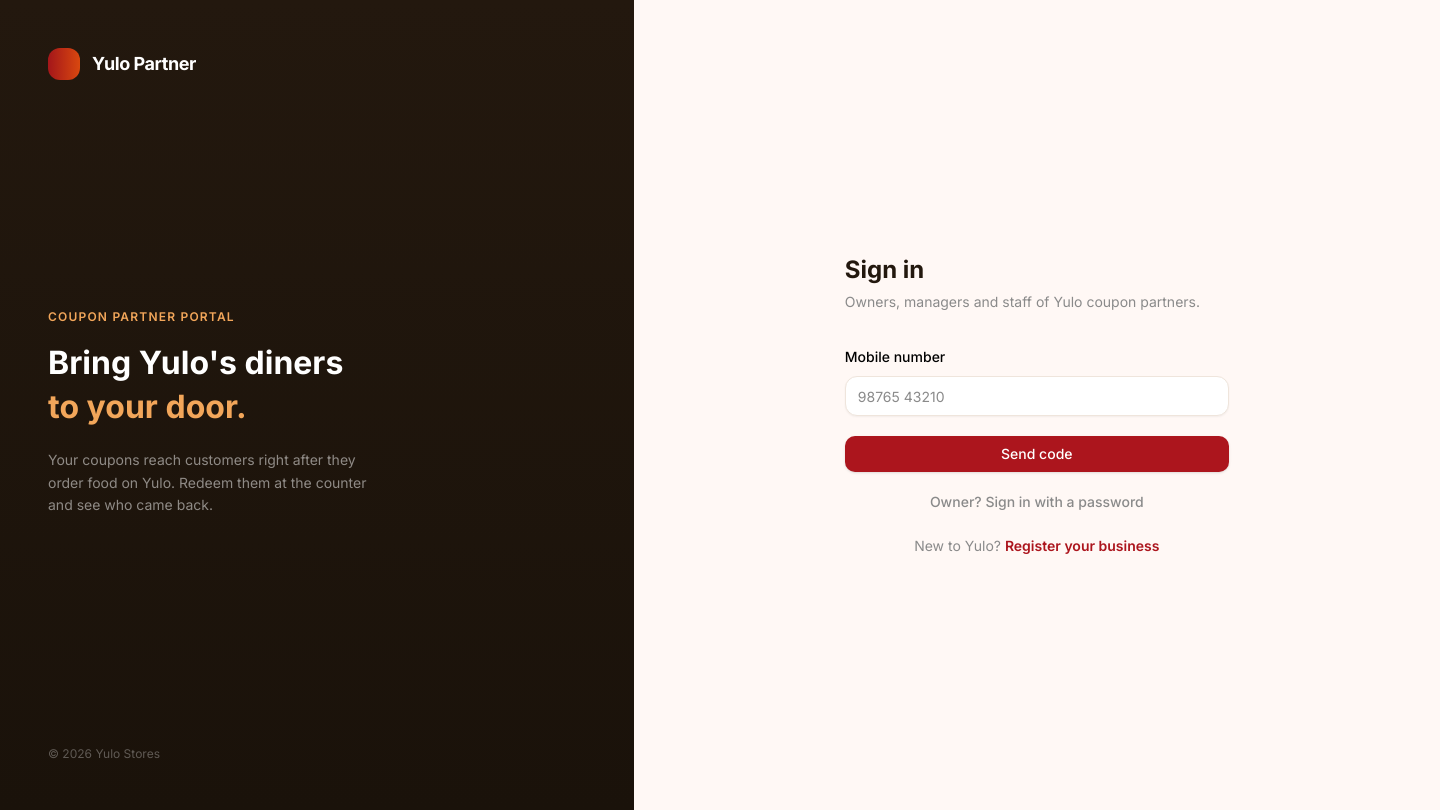
Test: Login — phone → OTP › the code screen shows where the code went, the development code, and a resend countdown
Type "9822222221" into the field labelled "Mobile number" at coordinates (1037, 396), box [845,376,1229,416]
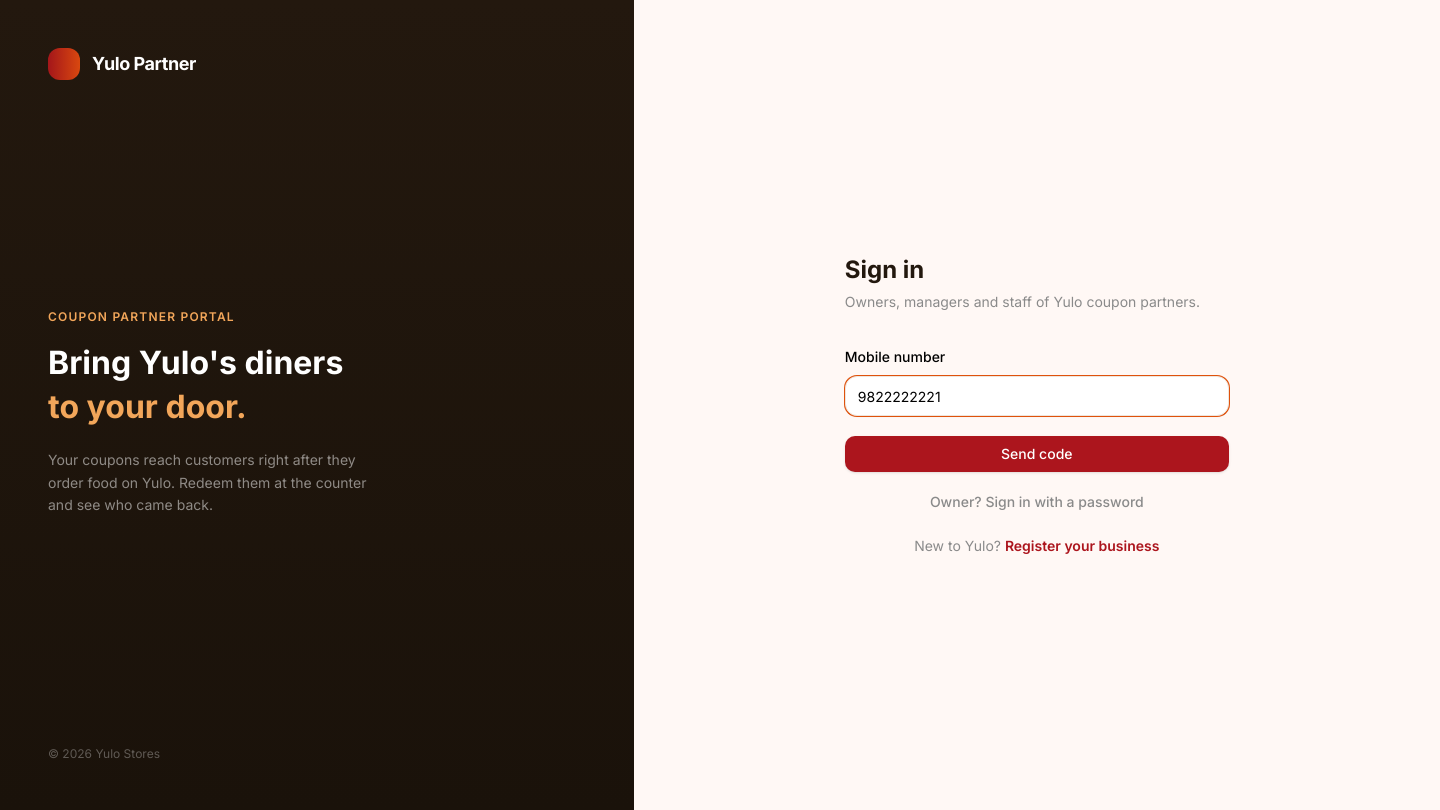
Click the button "Send code" at coordinates (1037, 454), box [845,436,1229,472]
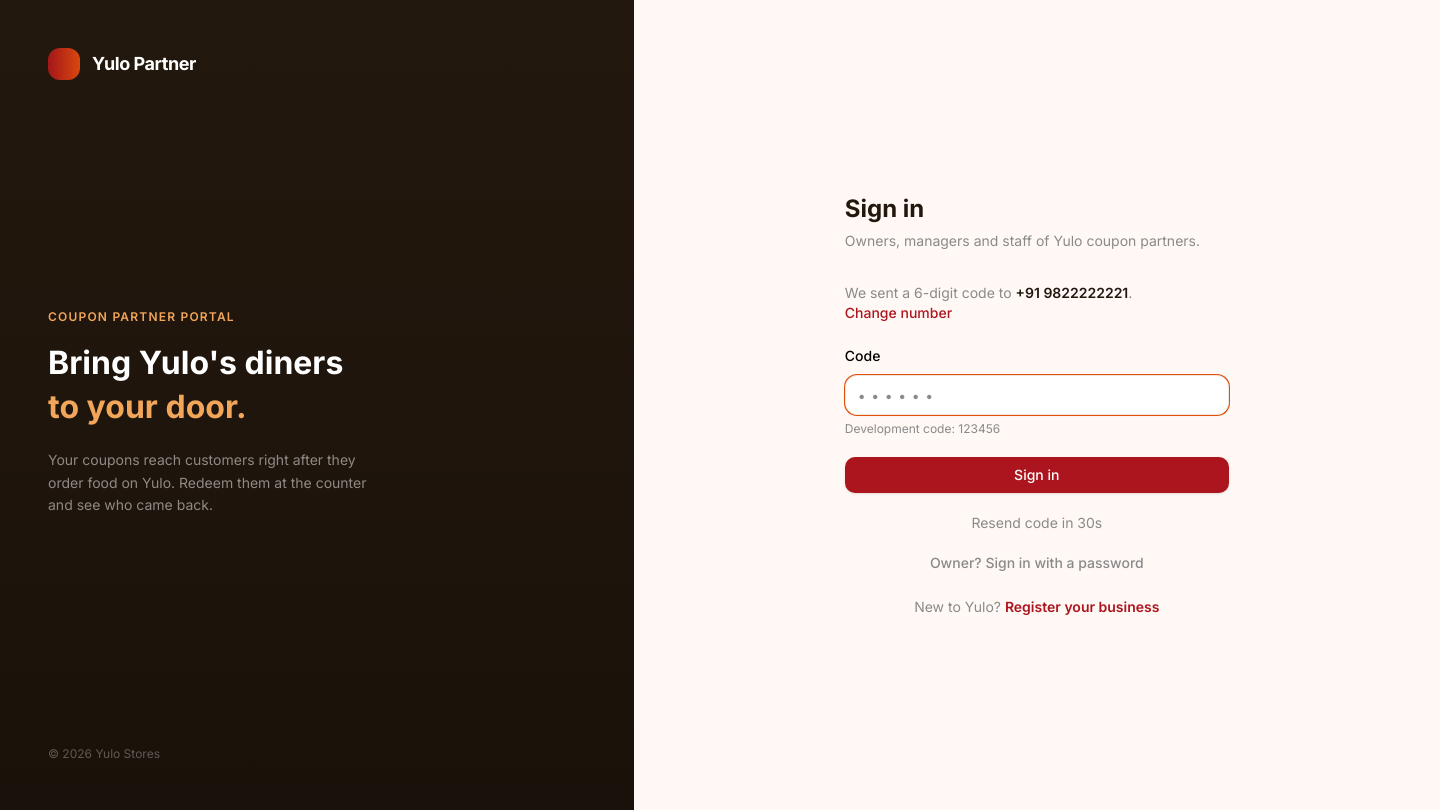
Result: the text "+91 9822222221" is shown at [1016,284,1128,301]
Result: the text "Development code: 123456" is shown at [845,421,1000,436]
Result: the text "Resend code in 30s" is shown at [971,514,1102,531]
Click the button "Change number" at coordinates (898, 313), box [845,303,952,323]
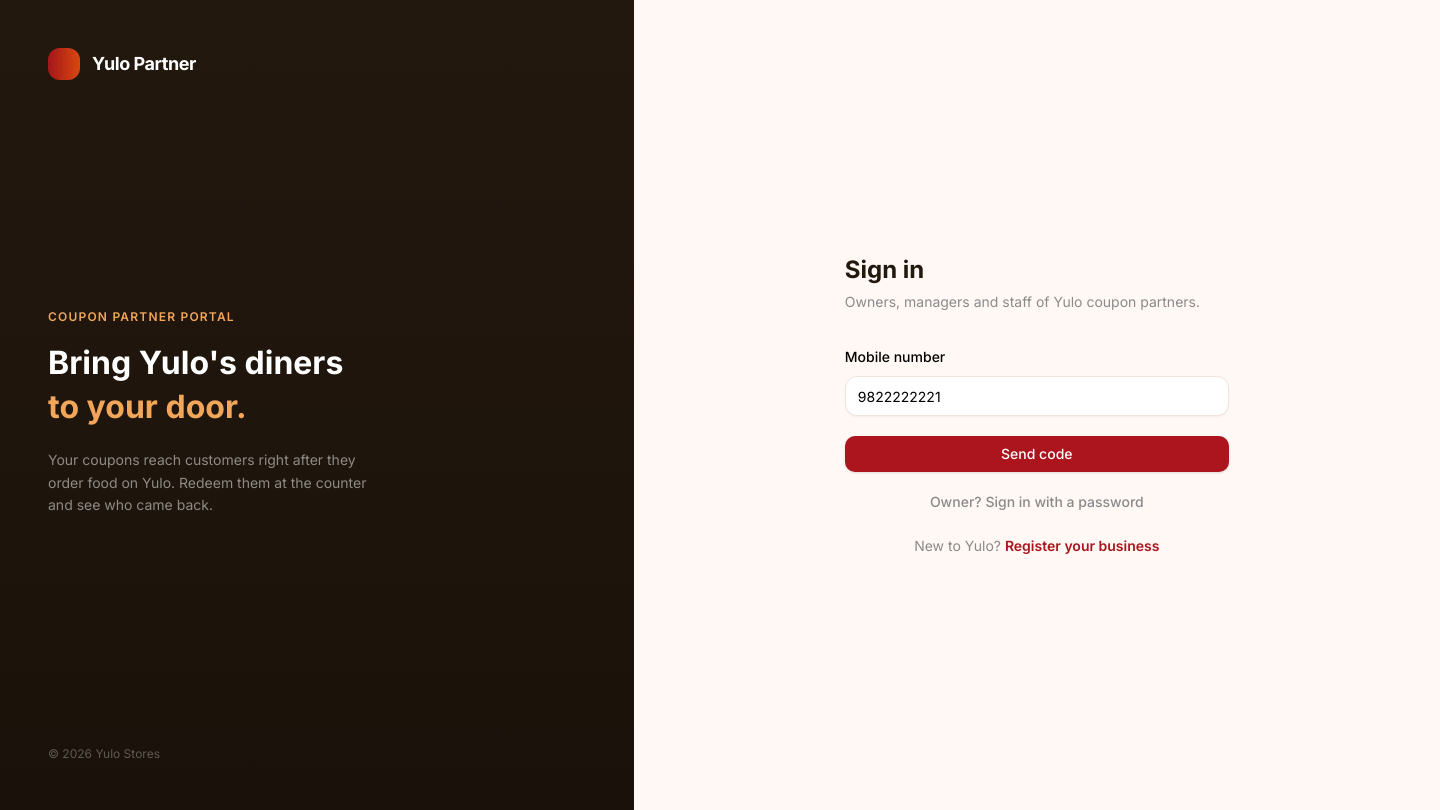
Result: the field labelled "Mobile number" is shown at [845,376,1229,416]
